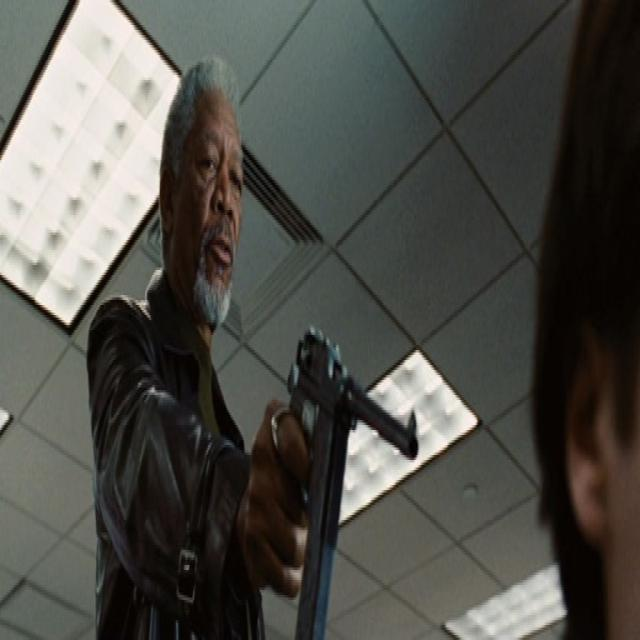rifle: (285, 322, 421, 640)
